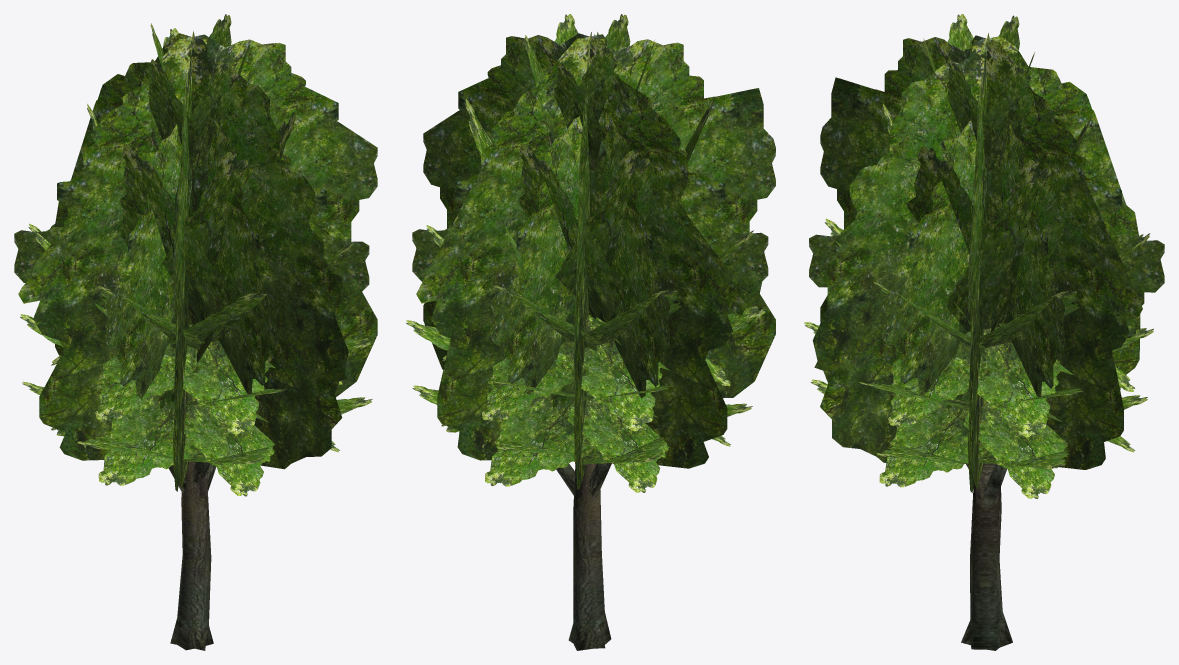
Rendered from tree.fbx.
The picture shows the model from 3 angles, left to right: view 1: azimuth 30°, elevation 25°; view 2: azimuth 150°, elevation 25°; view 3: azimuth 270°, elevation 25°; orthographic projection.
Parts seen in each view (by area): view 1: boomkroon1, Tree_1_1; view 2: boomkroon1, Tree_1_1; view 3: boomkroon1, Tree_1_1, Group1.
Boxes of the visible parts, <box> form: boomkroon1: <box>14,14,377,496</box>; Tree_1_1: <box>170,461,213,650</box>; boomkroon1: <box>406,14,775,492</box>; Tree_1_1: <box>568,463,611,650</box>; boomkroon1: <box>804,14,1164,498</box>; Tree_1_1: <box>961,463,1012,650</box>; Group1: <box>982,464,1006,506</box>.
Bounding box in the file's own units: 172 × 295 × 157.
